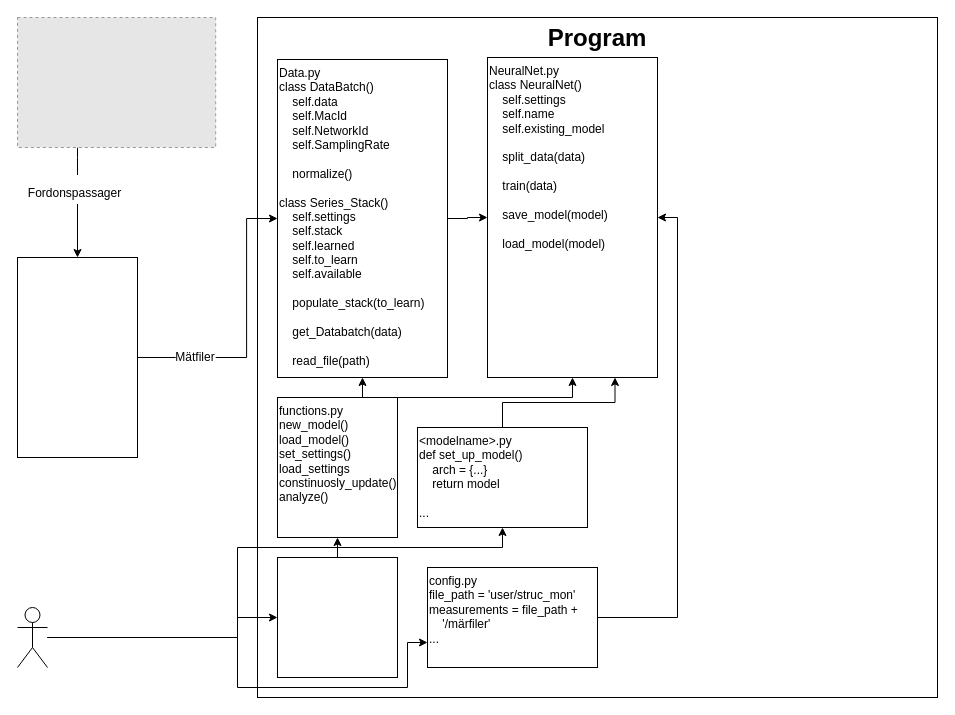
Image size: 955x715. Some labels were removed from this diagram. Grey dashed boxes stand in for pictures. The centre of each missing label's shape, as x and y in pixels:
"Användare" belongs at [32,637].
"Menu.py def prompt_action() action = input() return action" belongs at [337,617].
"Sensorer" belongs at [77,357].
